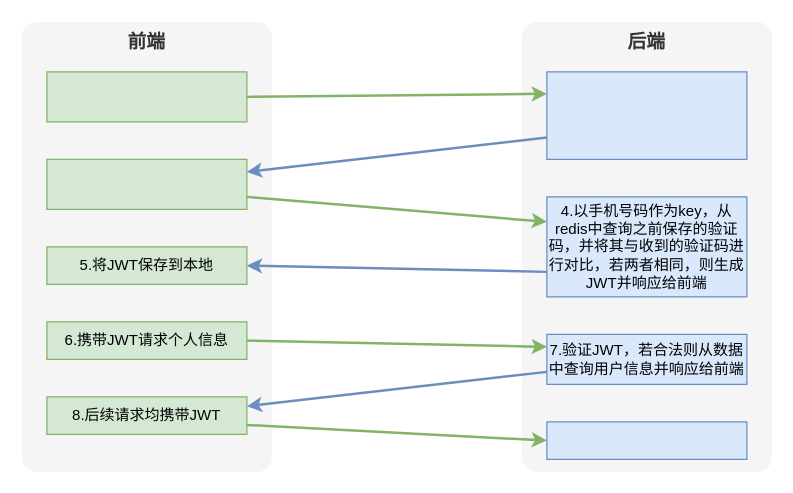
This 793x493 diagram has some shape labels left out. The shapes that lost their labels are listed below. From the top down, each one's box as (x1, y1, x2, y2) in pixels, then its label:
(46, 71, 247, 122): 1.填写手机号码，将其发送后端，请求发送短信验证码
(546, 71, 747, 159): 2.生成随机验证码，以手机号码作为key，验证码作为value保存至redis，并发送短信验证码到该手机号码
(46, 158, 247, 209): 3.发送手机号码和收到的短信验证码到后端，请求登陆
(546, 421, 747, 459): 9.后续请求均验证JWT
